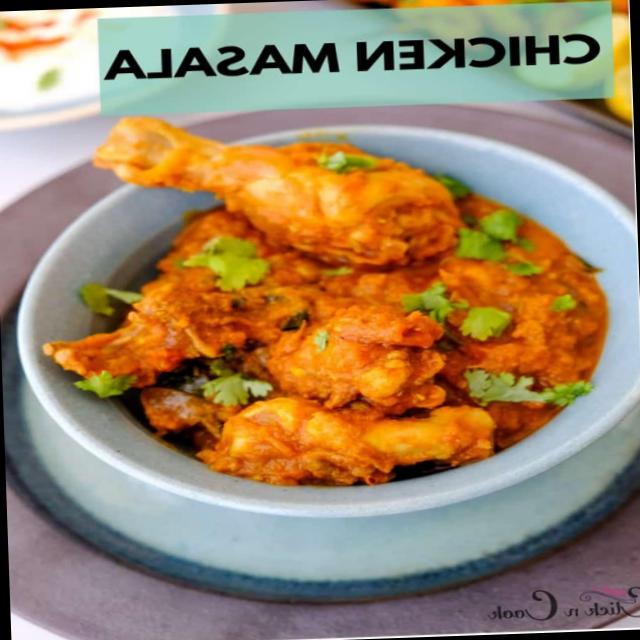chicken: (49, 135, 583, 498)
